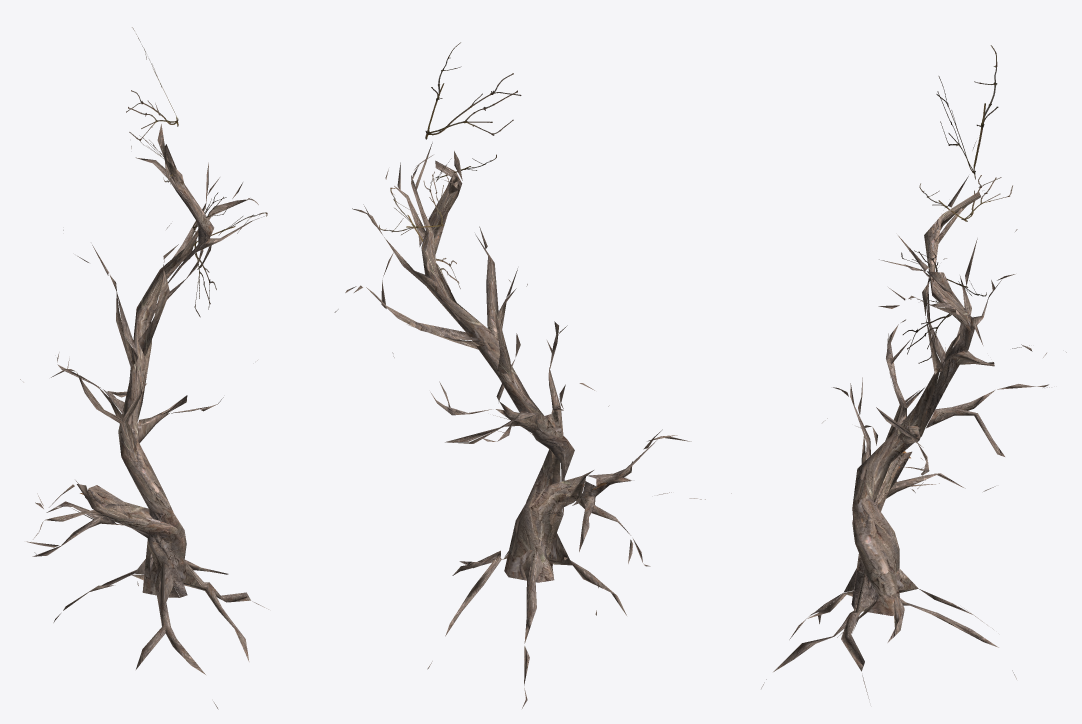
File: arvore_velha_lod.gltf
3 renders of one model, left to right at view 1: azimuth 30°, elevation 25°; view 2: azimuth 150°, elevation 25°; view 3: azimuth 270°, elevation 25°, orthographic. The views are drawn at different scales.
Parts seen in each view (by area): view 1: arvore_velha_lod; view 2: arvore_velha_lod; view 3: arvore_velha_lod.
Part boxes in pixels (left/top/right/bottom): arvore_velha_lod: left=20, top=27, right=268, bottom=709; arvore_velha_lod: left=334, top=42, right=731, bottom=708; arvore_velha_lod: left=761, top=45, right=1066, bottom=699.
Bounding box in the file's own units: 5.65 × 10.52 × 4.37.
Materials: 3 (3 with a texture image).
